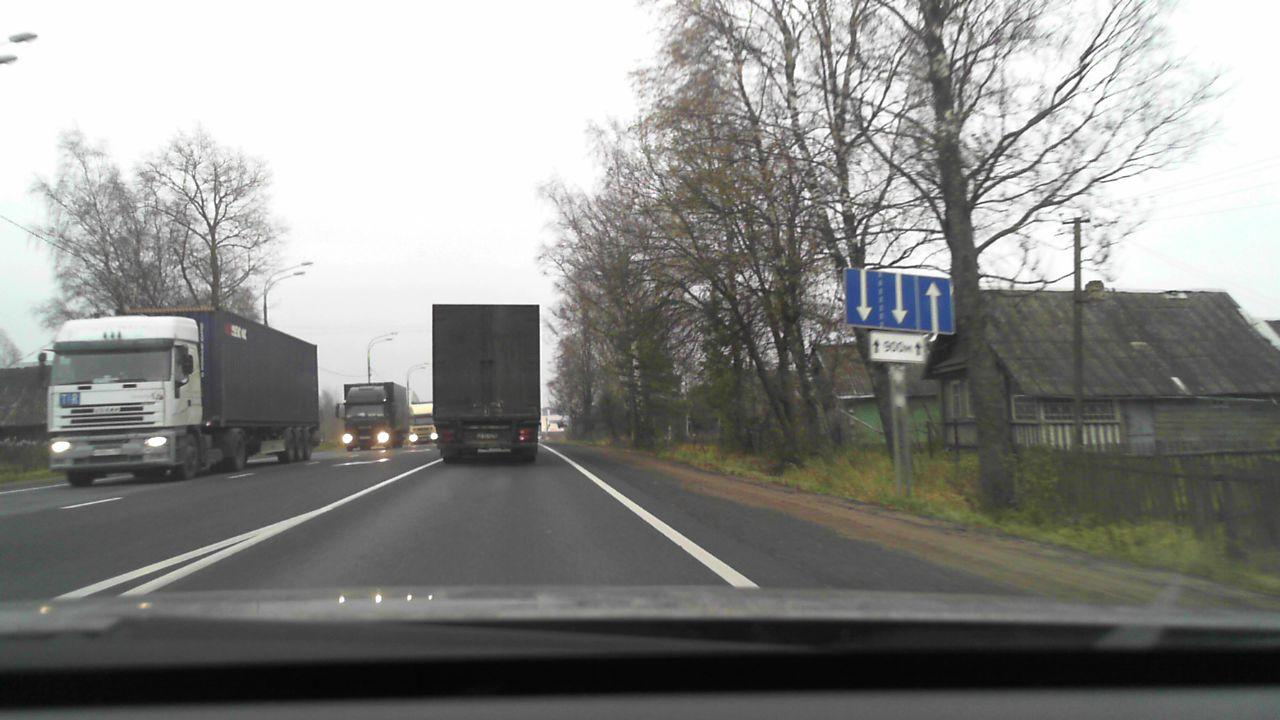5_15_7: (843, 265, 959, 333)
8_2_1: (870, 331, 927, 363)
